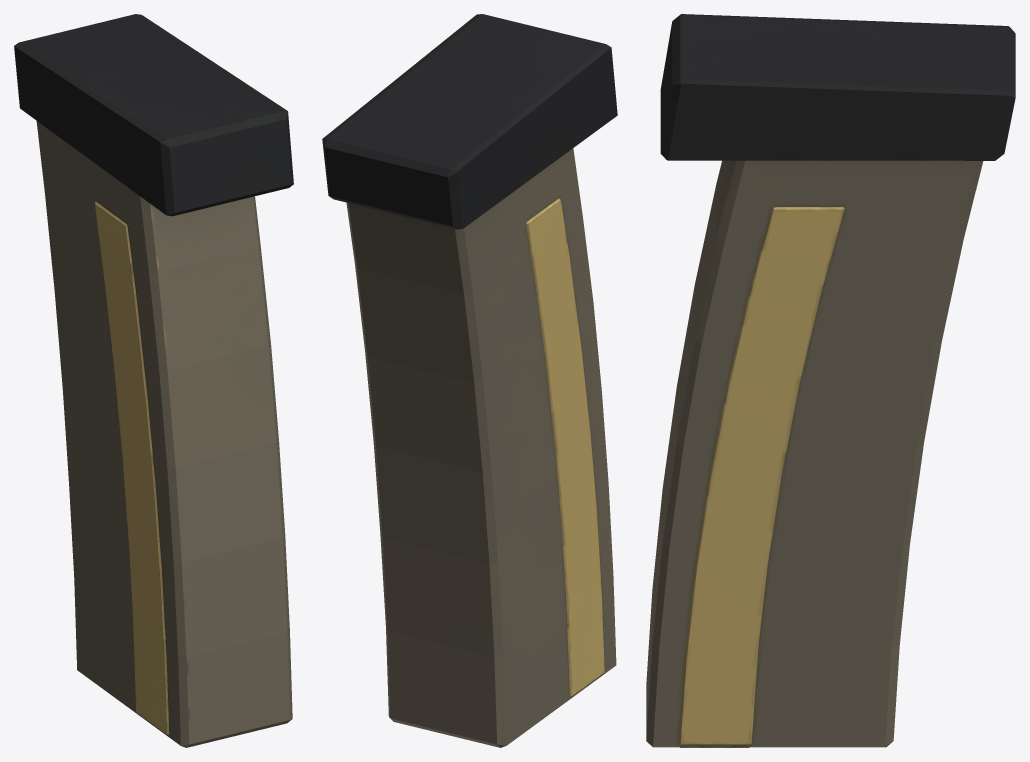
File: AT_LancerMag.fbx
The picture shows the model from 3 angles, left to right: view 1: azimuth 30°, elevation 25°; view 2: azimuth 150°, elevation 25°; view 3: azimuth 270°, elevation 25°; orthographic projection. The views are drawn at different scales.
Parts seen in each view (by area): view 1: AT_LancerMag_export; view 2: AT_LancerMag_export; view 3: AT_LancerMag_export.
Boxes of the visible parts, x1,y1,x2,y2 form: AT_LancerMag_export: (14,14,293,747); AT_LancerMag_export: (322,14,617,747); AT_LancerMag_export: (646,14,1015,747).
Bounding box in the file's own units: 0.024 × 0.0538 × 0.108.
